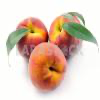Peach leaf: (4, 27, 32, 68), (62, 23, 99, 52), (63, 12, 86, 25)
